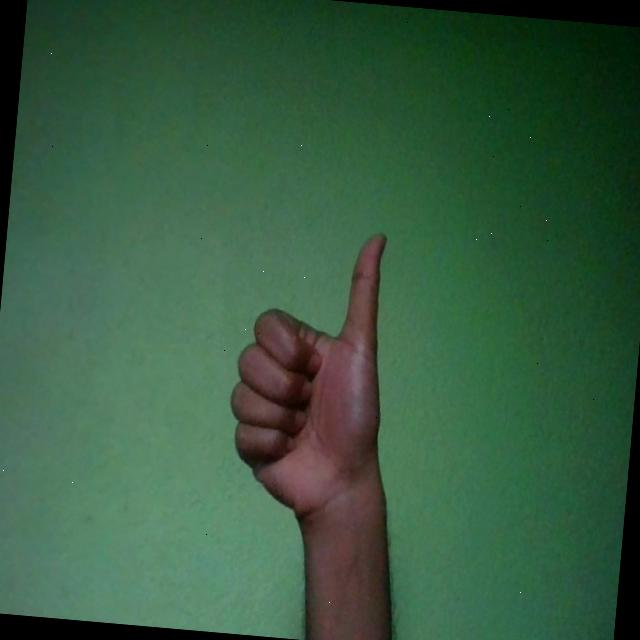Good Job: (220, 223, 396, 526)
